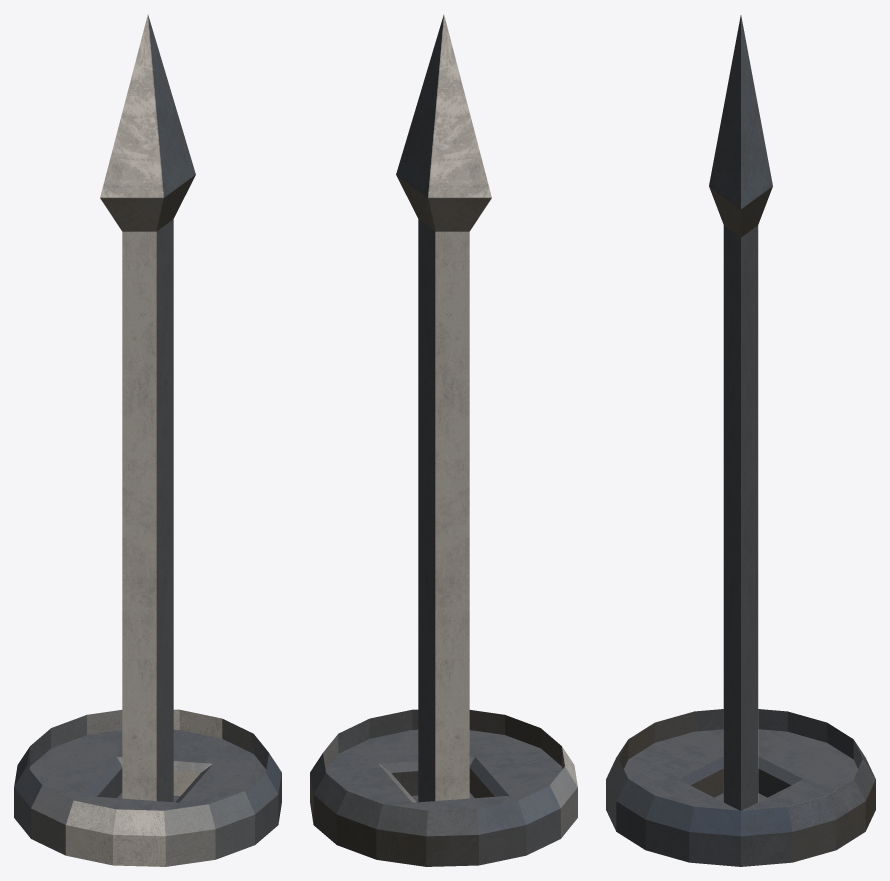
File: Trap.fbx
3 renders of one model, left to right at view 1: azimuth 30°, elevation 25°; view 2: azimuth 150°, elevation 25°; view 3: azimuth 270°, elevation 25°, orthographic.
Parts seen in each view (by area): view 1: Cylinder057, Cylinder058; view 2: Cylinder057, Cylinder058; view 3: Cylinder058, Cylinder057.
Part boxes in pixels (x1=…): Cylinder057: x1=100, y1=15, x2=195, y2=802; Cylinder058: x1=14, y1=709, x2=281, y2=866; Cylinder057: x1=396, y1=15, x2=491, y2=802; Cylinder058: x1=310, y1=709, x2=577, y2=866; Cylinder058: x1=606, y1=709, x2=875, y2=866; Cylinder057: x1=709, y1=15, x2=772, y2=810.
Size of the model in its own units: 39.96 by 130 by 39.96.
Materials: 1 (1 with a texture image).
